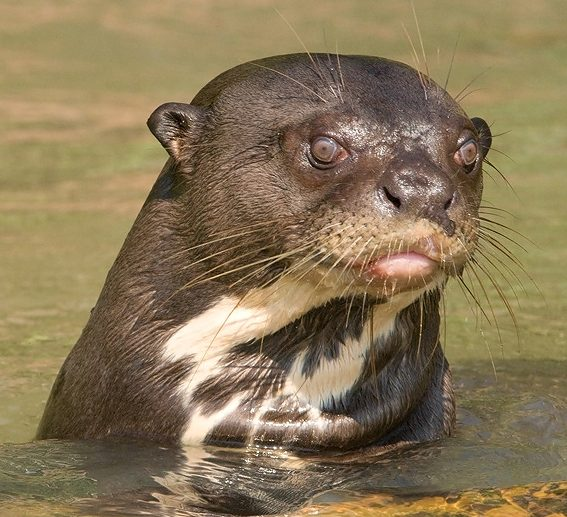otter: (69, 47, 521, 487)
